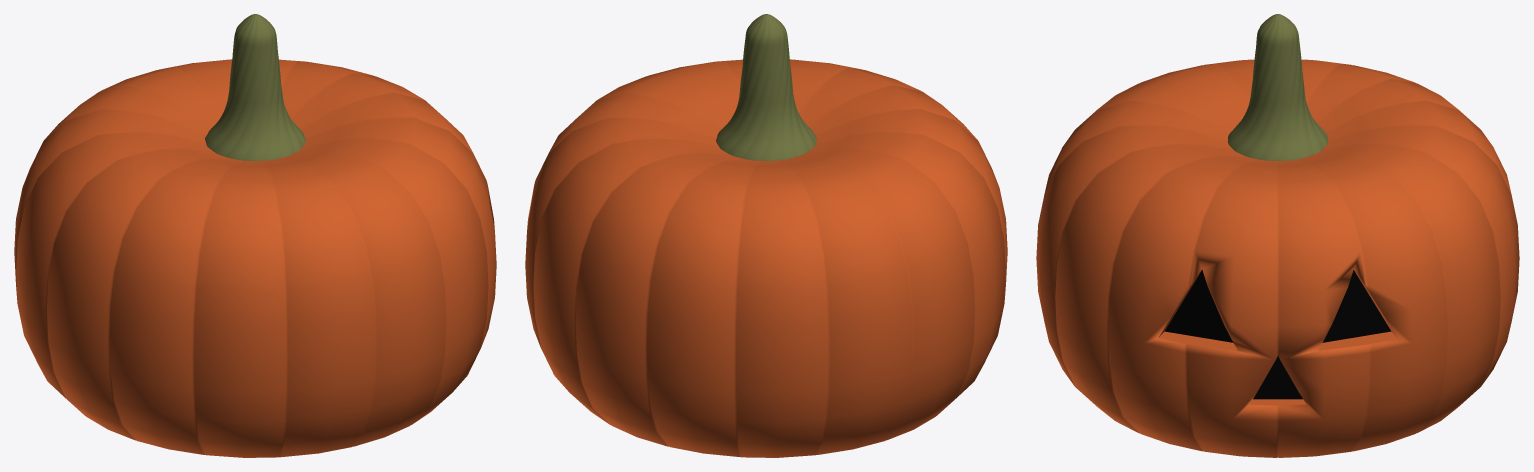
File: Calabaza1.fbx
The picture shows the model from 3 angles, left to right: view 1: azimuth 30°, elevation 25°; view 2: azimuth 150°, elevation 25°; view 3: azimuth 270°, elevation 25°; orthographic projection.
Parts seen in each view (by area): view 1: Calabaza; view 2: Calabaza; view 3: Calabaza.
Part boxes in pixels (x1,y1,x2,y2): Calabaza: (14,14,496,457); Calabaza: (525,14,1007,457); Calabaza: (1036,14,1519,457).
Size of the model in its own units: 2.61 by 2.25 by 2.61.
